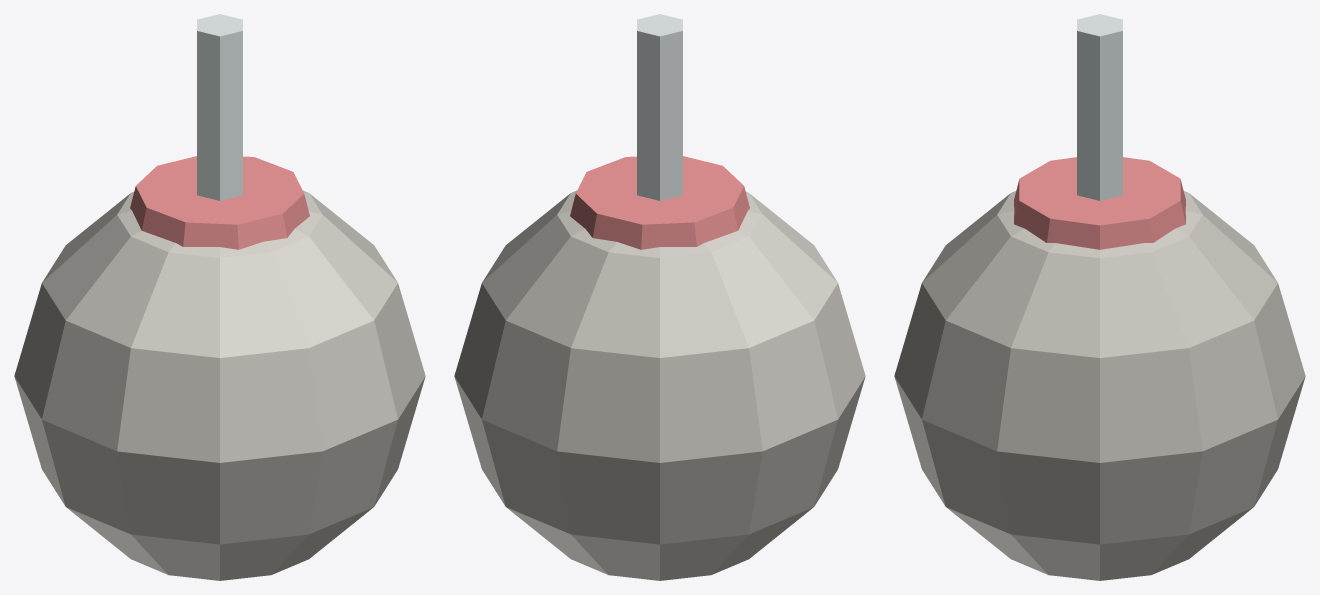
File: corcho.glb
3 views of the same model, side by side, from view 1: azimuth 30°, elevation 25°; view 2: azimuth 150°, elevation 25°; view 3: azimuth 270°, elevation 25° (orthographic).
Visible parts, largest first — view 1: corcho; view 2: corcho; view 3: corcho.
Boxes of the visible parts, x1,y1,x2,y2 form: corcho: (14,14,425,580); corcho: (454,14,865,580); corcho: (894,14,1305,580).
Size of the model in its own units: 0.34 by 0.49 by 0.34.
